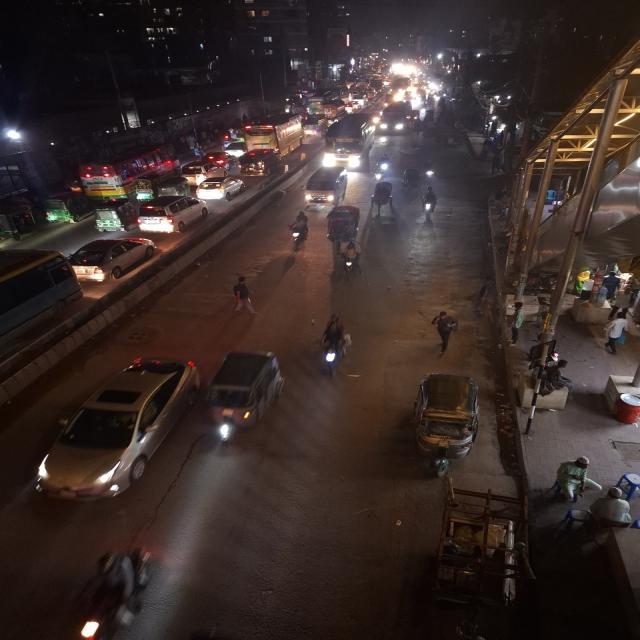bus: (80, 140, 180, 190), (322, 112, 379, 166), (246, 122, 308, 152), (379, 105, 406, 138)
car: (24, 349, 205, 508), (69, 235, 157, 284), (137, 194, 209, 235), (299, 164, 349, 207), (238, 147, 284, 179), (195, 175, 247, 202)
cng: (201, 346, 289, 451), (407, 368, 483, 480), (91, 196, 136, 234), (42, 190, 88, 224), (155, 176, 192, 197)
motorcycle: (317, 310, 353, 382), (288, 208, 312, 259), (418, 185, 440, 223)
pedestrian: (225, 268, 265, 324), (426, 312, 466, 359)
rickshaw: (325, 204, 362, 255), (368, 180, 397, 214), (401, 167, 422, 191)
